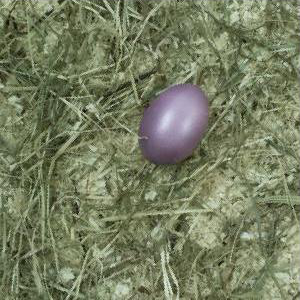egg: (138, 84, 210, 165)
